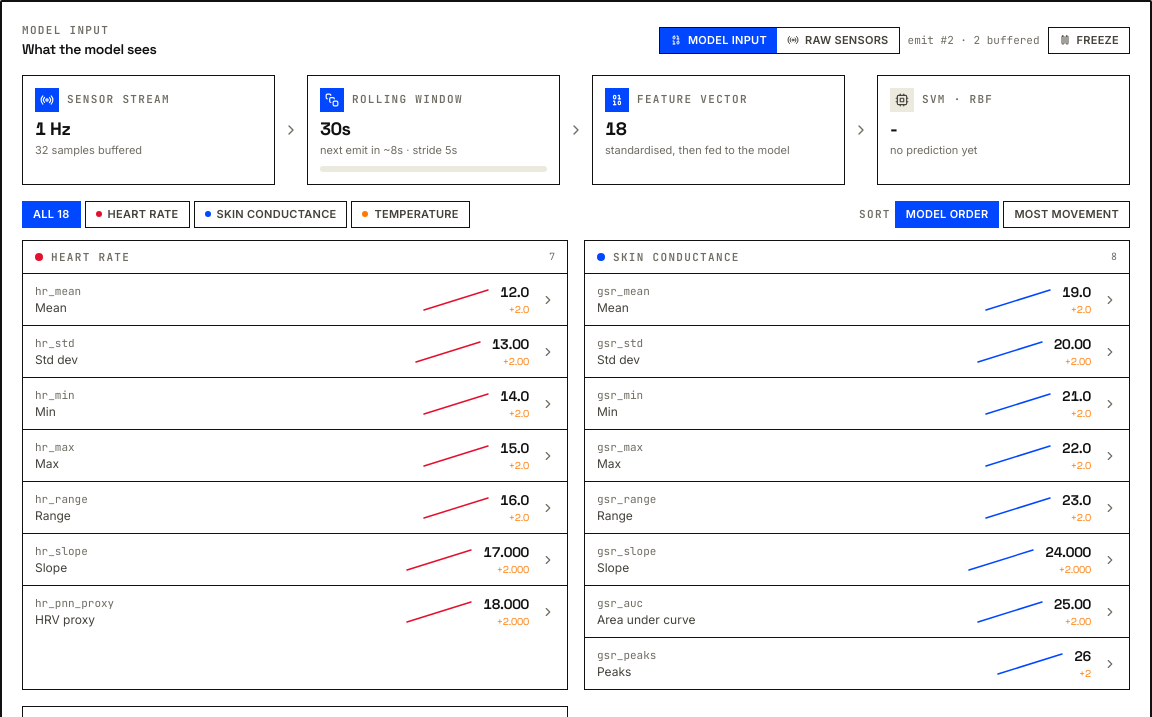
Test: ModelInputPanel › freezes the readout so values stop updating while inspected
Click the button "Freeze".
click(1089, 40)  # box left=1048, top=27, right=1130, bottom=54
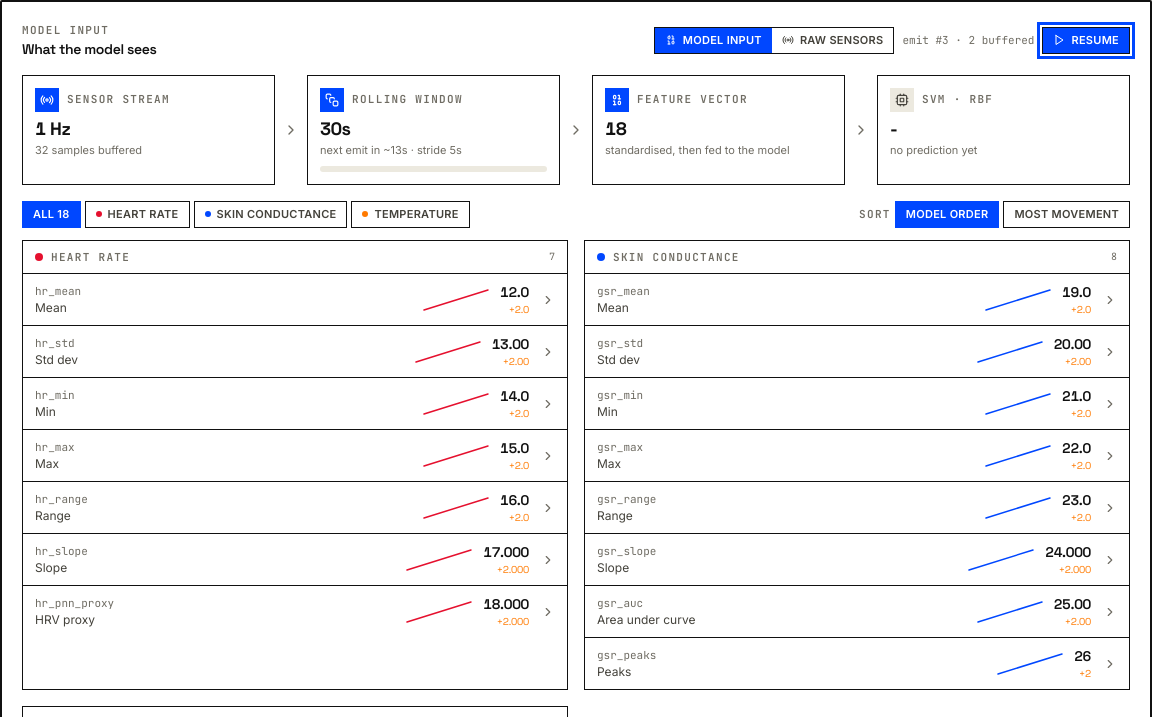
Check: the text "900.0" is not shown
Click the button "Resume".
click(1086, 40)  # box left=1042, top=27, right=1130, bottom=54
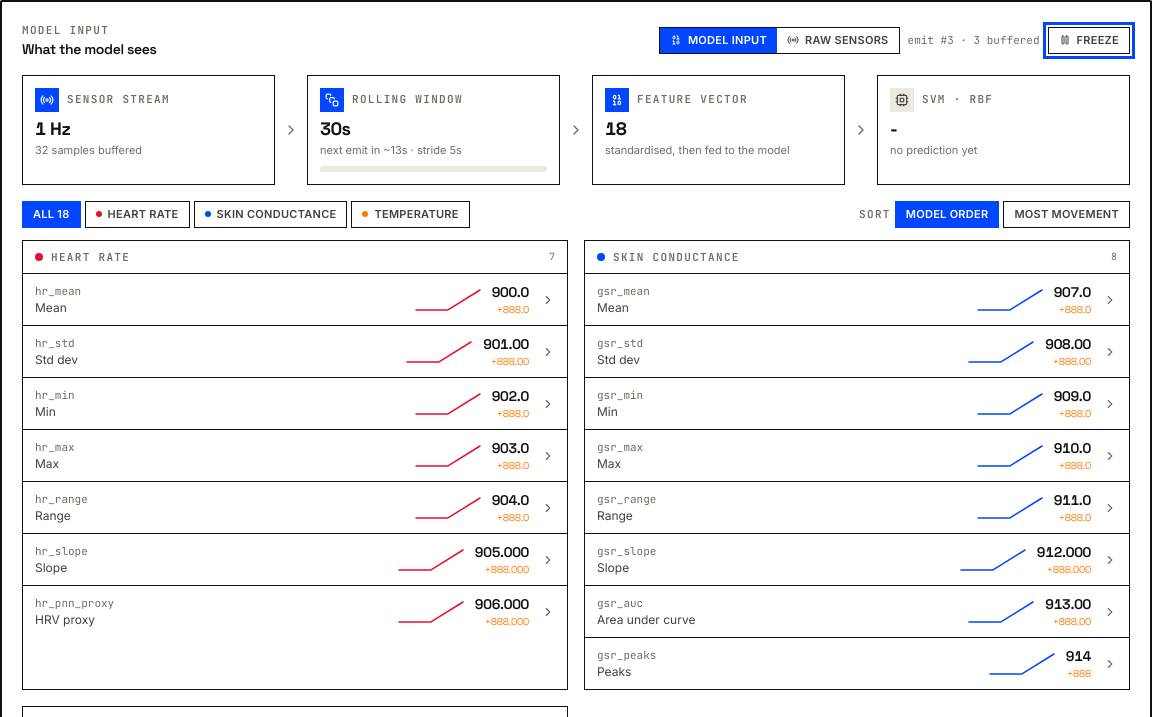
Check: the text "900.0" is shown, box left=492, top=282, right=529, bottom=302
